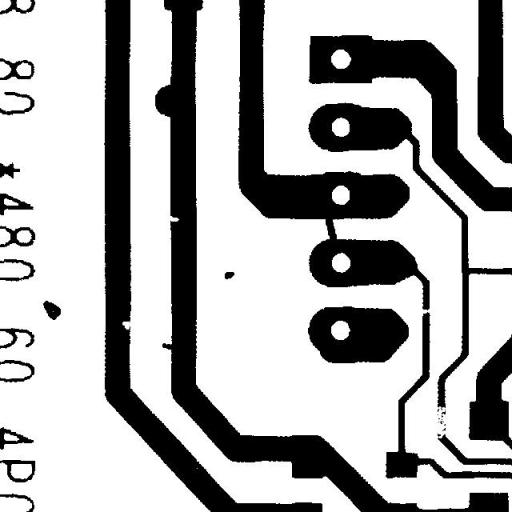copper: (35, 293, 68, 327), (216, 264, 242, 286)
mousebite: (114, 314, 140, 336), (160, 208, 186, 229)
open: (424, 398, 457, 446), (410, 300, 440, 322)
short: (318, 208, 344, 250)
spur: (154, 335, 182, 357)
